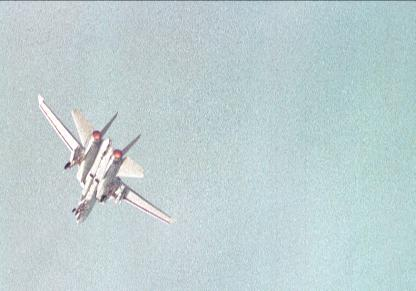EF2000: (37, 94, 177, 226)
